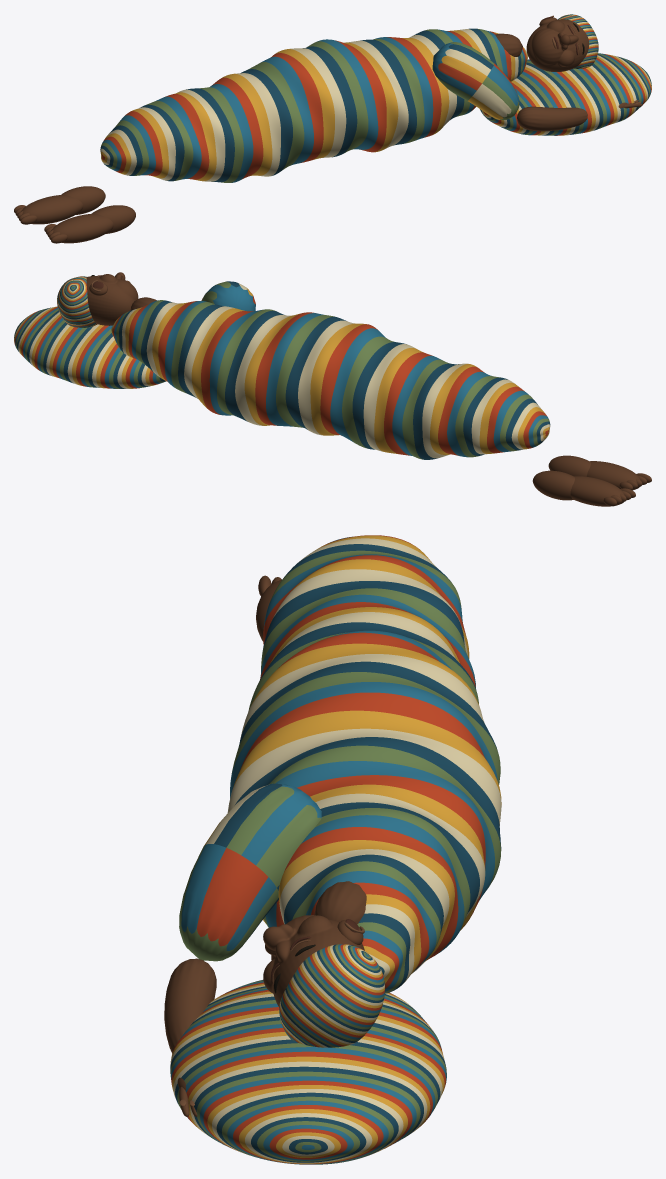
The model's file is sleeping-person.glb.
3 renders of one model, top to bottom at view 1: azimuth 30°, elevation 25°; view 2: azimuth 150°, elevation 25°; view 3: azimuth 270°, elevation 25°, orthographic. The views are drawn at different scales.
Parts seen in each view (by area): view 1: Sleeping person detailed mesh; view 2: Sleeping person detailed mesh; view 3: Sleeping person detailed mesh.
Boxes of the visible parts, left/top/right/bottom form: Sleeping person detailed mesh: left=14, top=14, right=651, bottom=243; Sleeping person detailed mesh: left=14, top=272, right=651, bottom=506; Sleeping person detailed mesh: left=164, top=535, right=501, bottom=1164.
Bounding box in the file's own units: 2.46 × 0.4472 × 0.5868.
